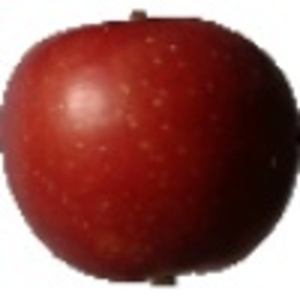maçã braeburn: (1, 9, 300, 286)
